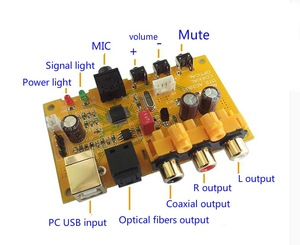capacitor: (61, 115, 86, 143), (180, 92, 199, 121), (199, 86, 218, 115)
